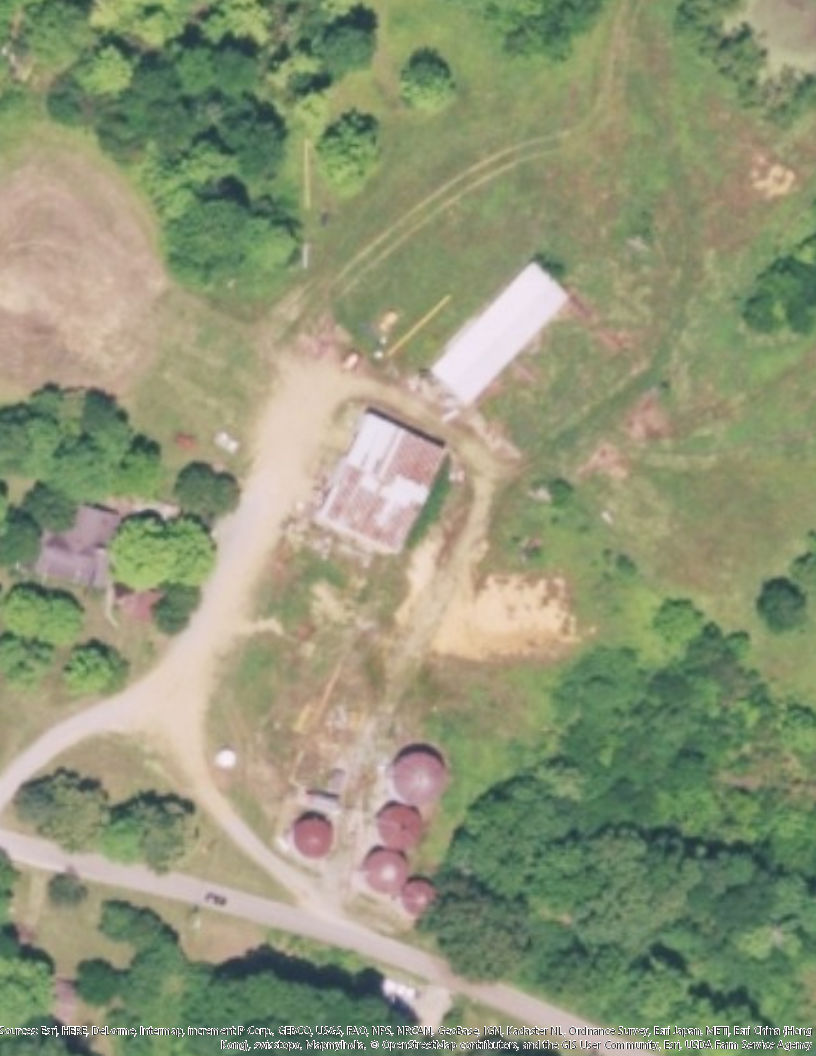cafo: (420, 258, 580, 408), (311, 410, 456, 552)
